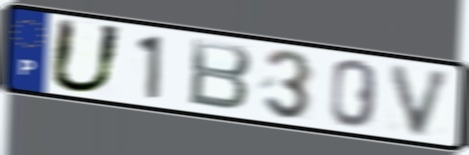0: (328, 57, 380, 130)
1: (133, 34, 169, 101)
3: (254, 48, 319, 122)
B: (186, 36, 255, 113)
U: (45, 15, 127, 96)
V: (387, 62, 458, 140)
